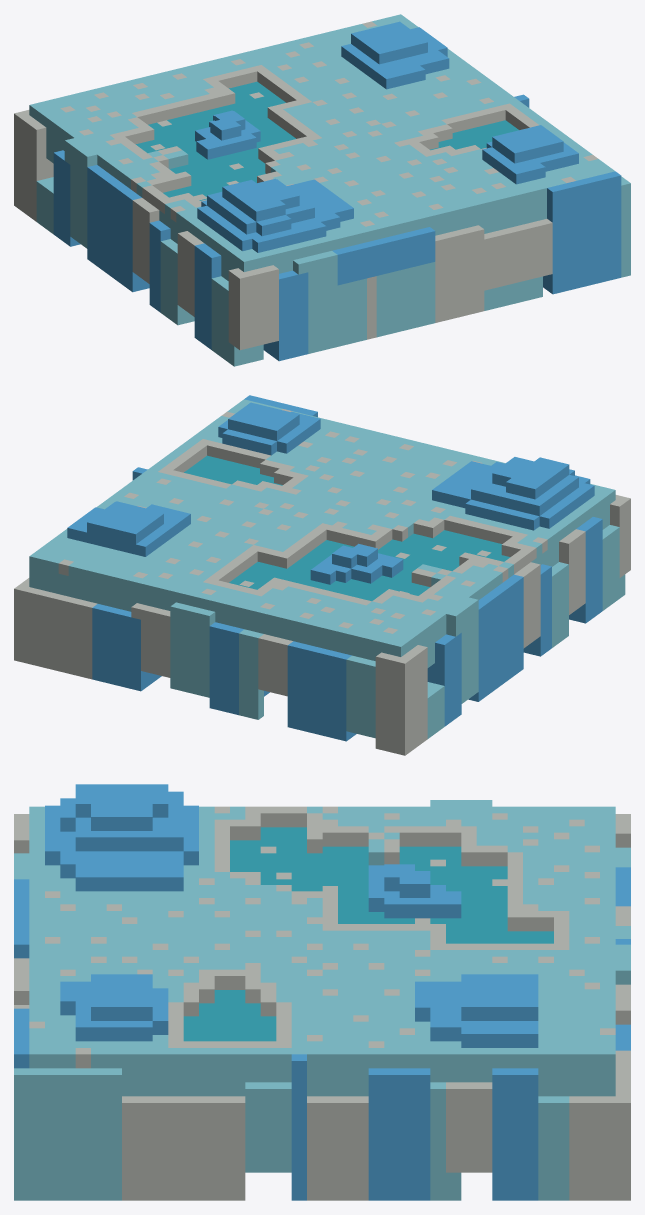
The model's file is Bioma nieve.glb.
The picture shows the model from 3 angles, top to bottom: view 1: azimuth 30°, elevation 25°; view 2: azimuth 150°, elevation 25°; view 3: azimuth 270°, elevation 25°; orthographic projection. The views are drawn at different scales.
Visible parts, largest first — view 1: defaultobject; view 2: defaultobject; view 3: defaultobject.
Boxes of the visible parts, bbox=[...] form: defaultobject: bbox=[14, 14, 630, 366]; defaultobject: bbox=[14, 395, 630, 755]; defaultobject: bbox=[14, 784, 630, 1200].
Size of the model in its own units: 4 by 1.3 by 4.
Materials: 1 (1 with a texture image).
